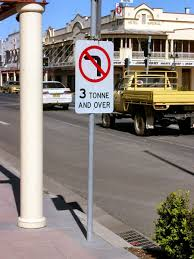No_left_turn: (79, 45, 111, 83)
